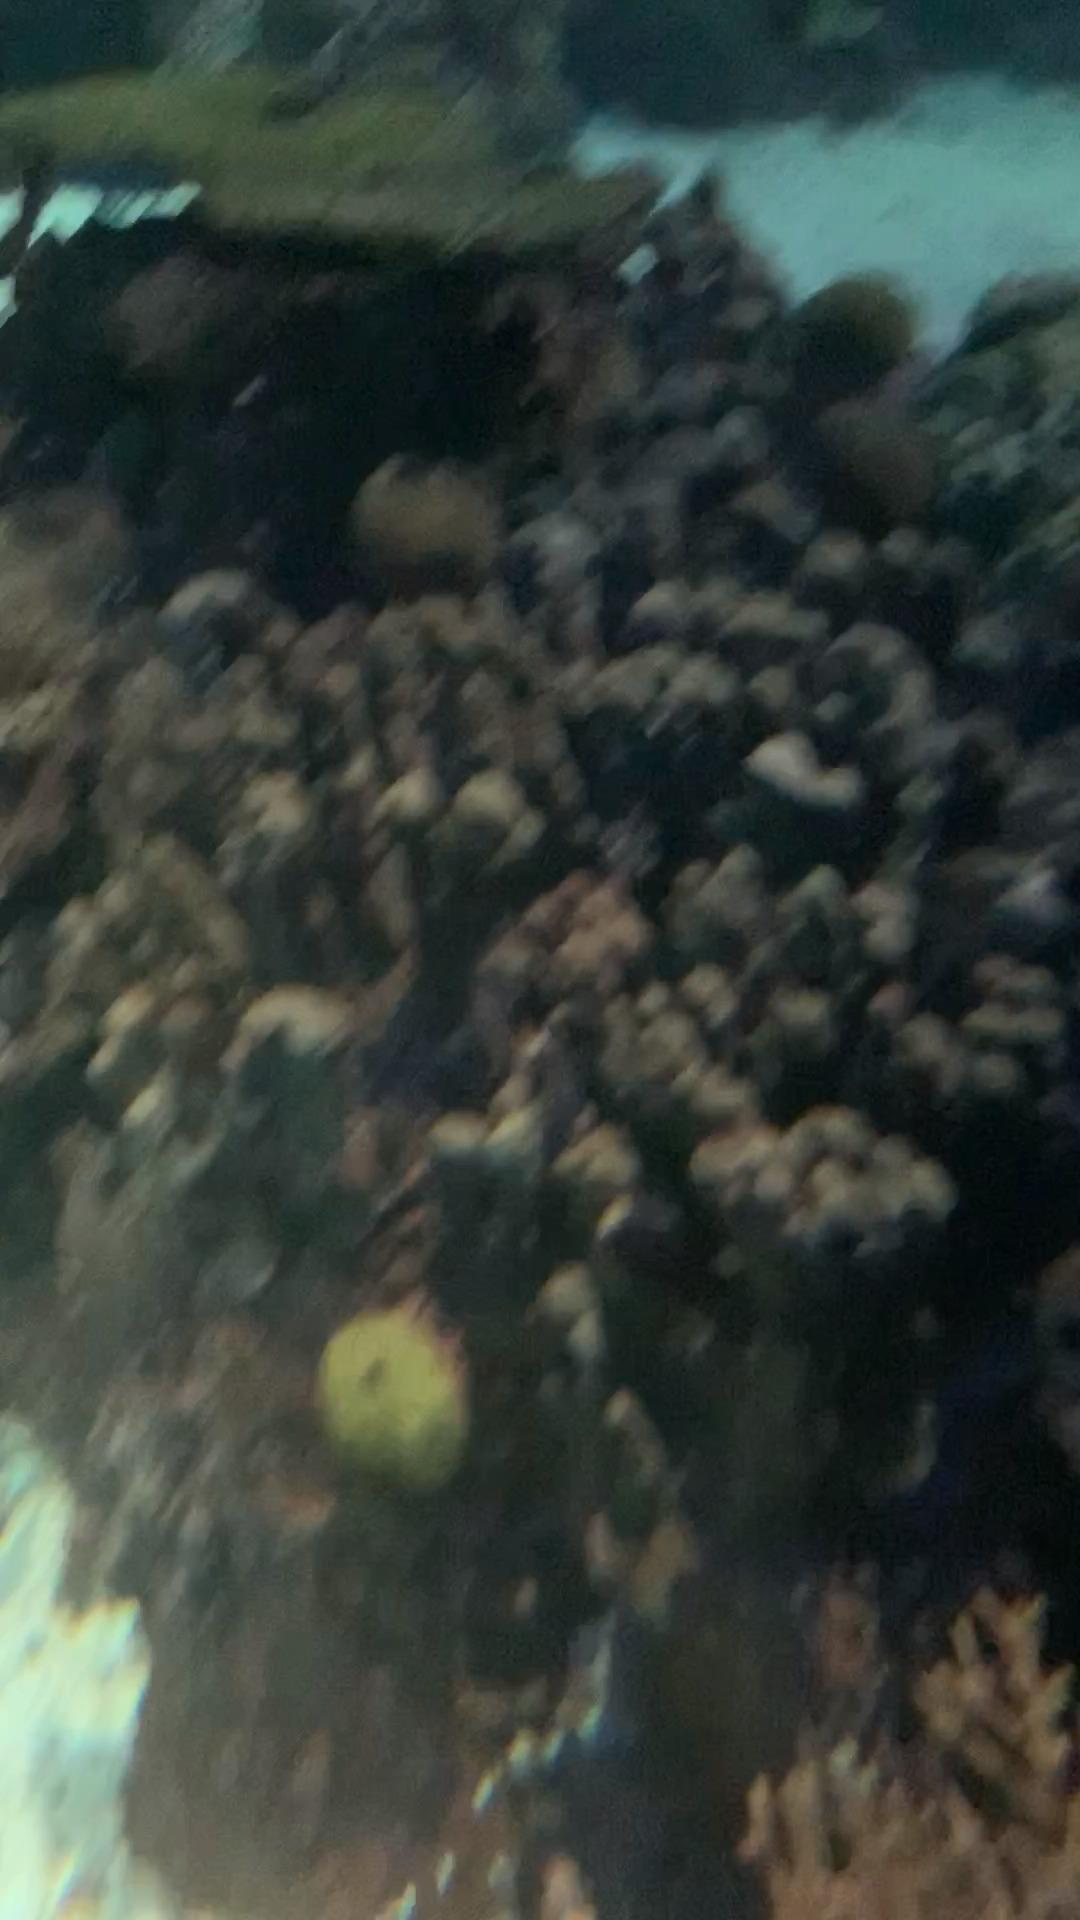fish: (309, 1308, 485, 1506)
